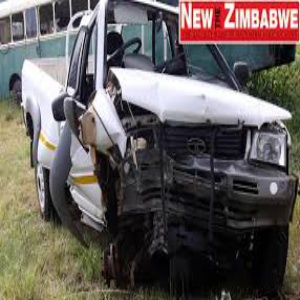bonnet: (107, 66, 290, 128)
bumper: (101, 164, 280, 273)
